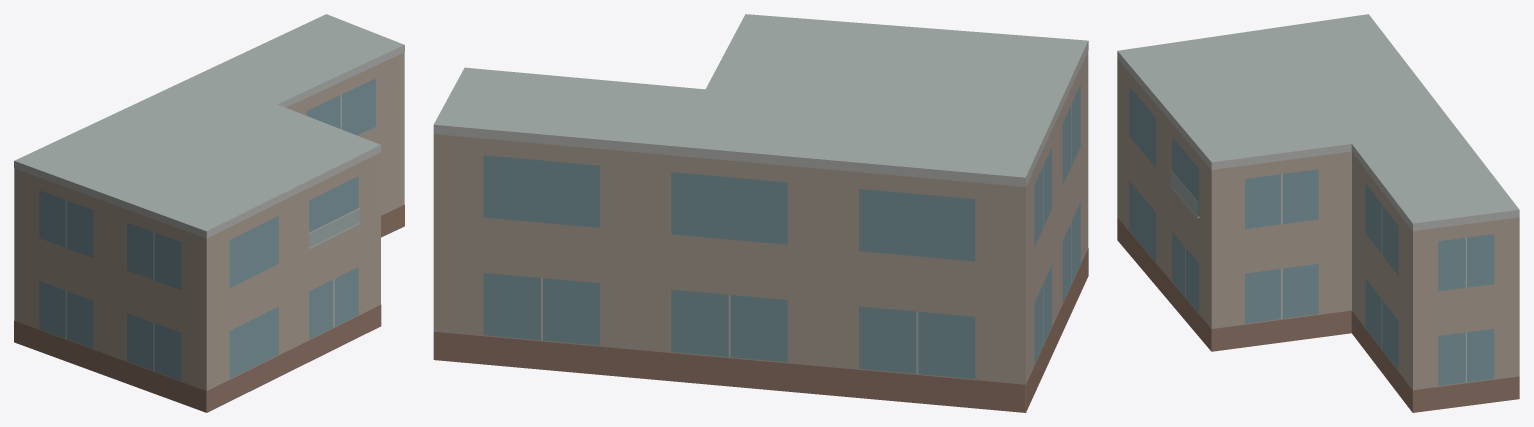
The model's file is survey-upis-32752441.glb.
The picture shows the model from 3 angles, left to right: view 1: azimuth 30°, elevation 25°; view 2: azimuth 150°, elevation 25°; view 3: azimuth 270°, elevation 25°; orthographic projection. The views are drawn at different scales.
Parts seen in each view (by area): view 1: survey-upis-32752441.tmp; view 2: survey-upis-32752441.tmp; view 3: survey-upis-32752441.tmp.
Part boxes in pixels (x1,y1,x2,y2): survey-upis-32752441.tmp: (14, 14, 404, 412); survey-upis-32752441.tmp: (433, 14, 1088, 412); survey-upis-32752441.tmp: (1117, 14, 1519, 412).
Bounding box in the file's own units: 14.5 × 6.1 × 11.76.
